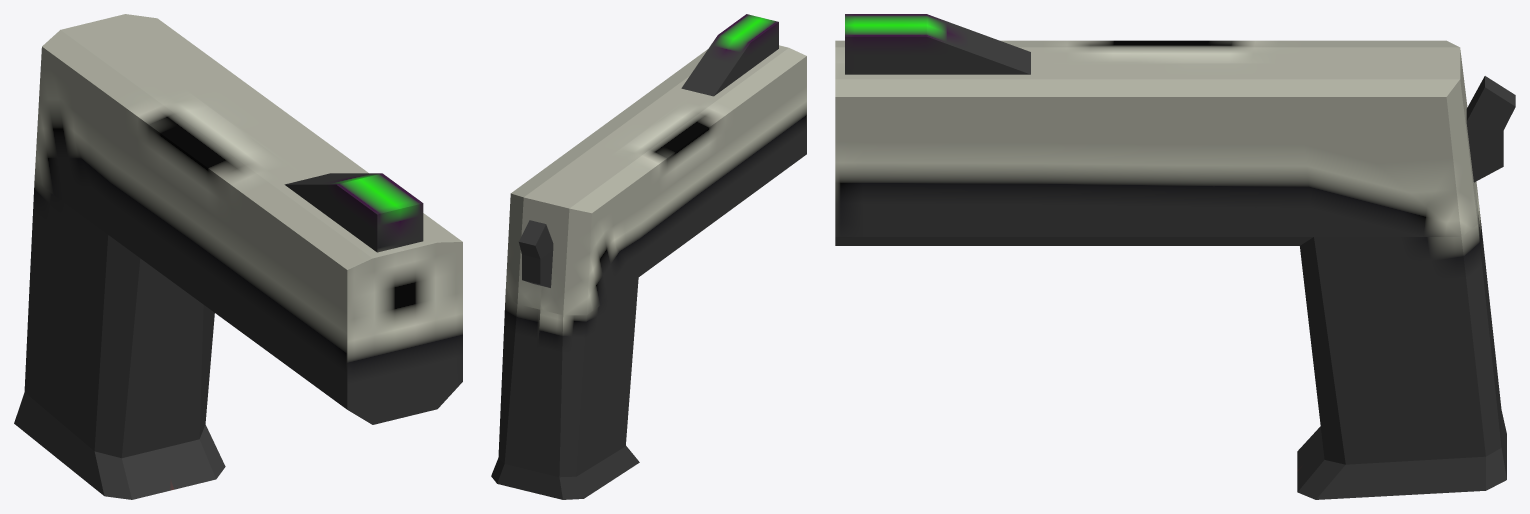
The model's file is pistol.gltf.
The picture shows the model from 3 angles, left to right: view 1: azimuth 30°, elevation 25°; view 2: azimuth 150°, elevation 25°; view 3: azimuth 270°, elevation 25°; orthographic projection. The views are drawn at different scales.
Parts seen in each view (by area): view 1: Pistol Final; view 2: Pistol Final; view 3: Pistol Final.
Part boxes in pixels (<box>): Pistol Final: <box>14,14,462,499</box>; Pistol Final: <box>491,14,806,499</box>; Pistol Final: <box>835,14,1515,499</box>.
Size of the model in its own units: 0.0432 by 0.1395 by 0.1926.
1 material, 1 textured.
